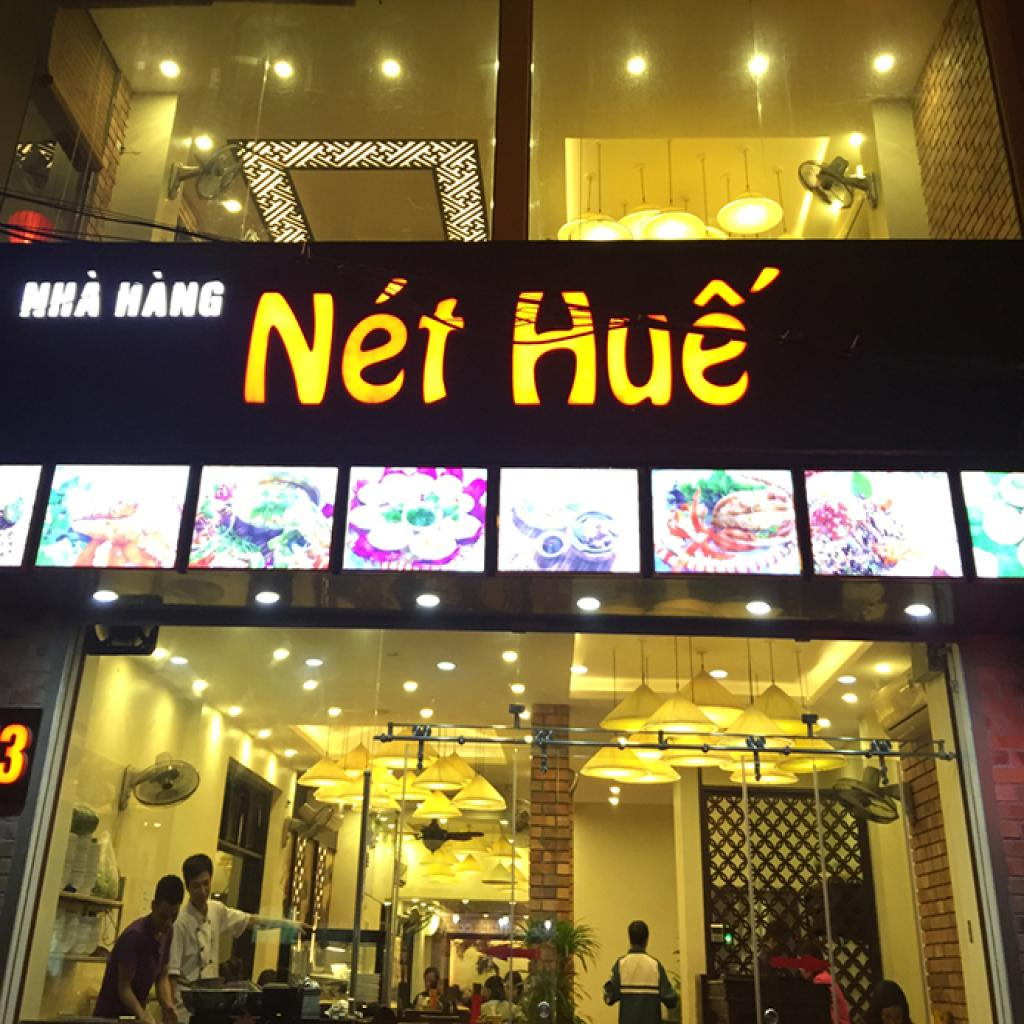text: (509, 267, 785, 411), (238, 275, 468, 413), (112, 270, 229, 325), (16, 267, 109, 323)
